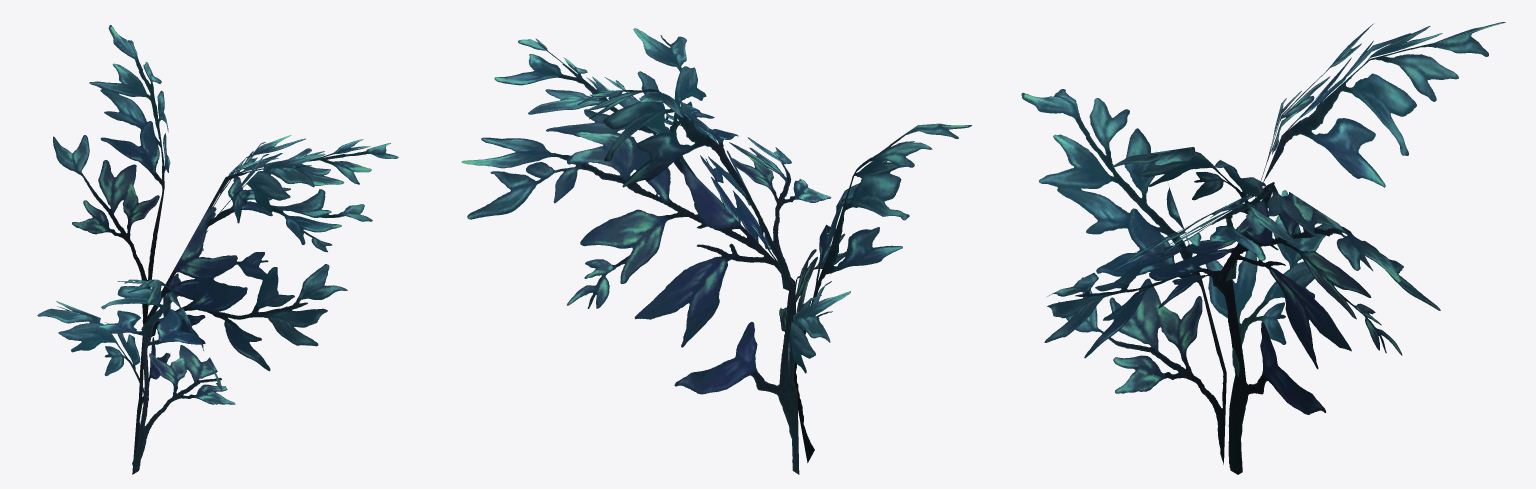
The model's file is 6sm_bush_a01.obj.
3 renders of one model, left to right at view 1: azimuth 30°, elevation 25°; view 2: azimuth 150°, elevation 25°; view 3: azimuth 270°, elevation 25°, orthographic. The views are drawn at different scales.
Visible parts, largest first — view 1: 6SM_BUSH_A010; view 2: 6SM_BUSH_A010; view 3: 6SM_BUSH_A010.
Boxes of the visible parts, bbox=[...] form: 6SM_BUSH_A010: bbox=[37, 25, 398, 474]; 6SM_BUSH_A010: bbox=[461, 28, 971, 474]; 6SM_BUSH_A010: bbox=[1021, 22, 1505, 474].
Size of the model in its own units: 2.96 by 3.13 by 2.82.
Materials: 1 (1 with a texture image).
